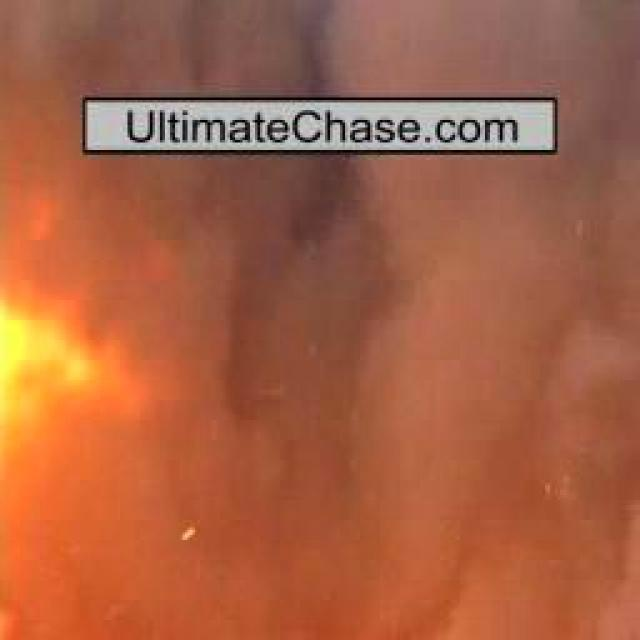Fire: (0, 158, 232, 491)
